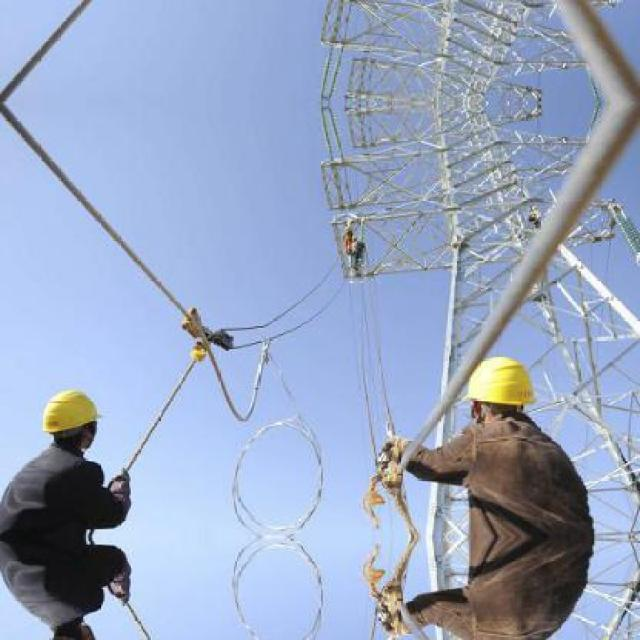helmet: (460, 352, 537, 438), (37, 381, 105, 459), (37, 612, 106, 638)
